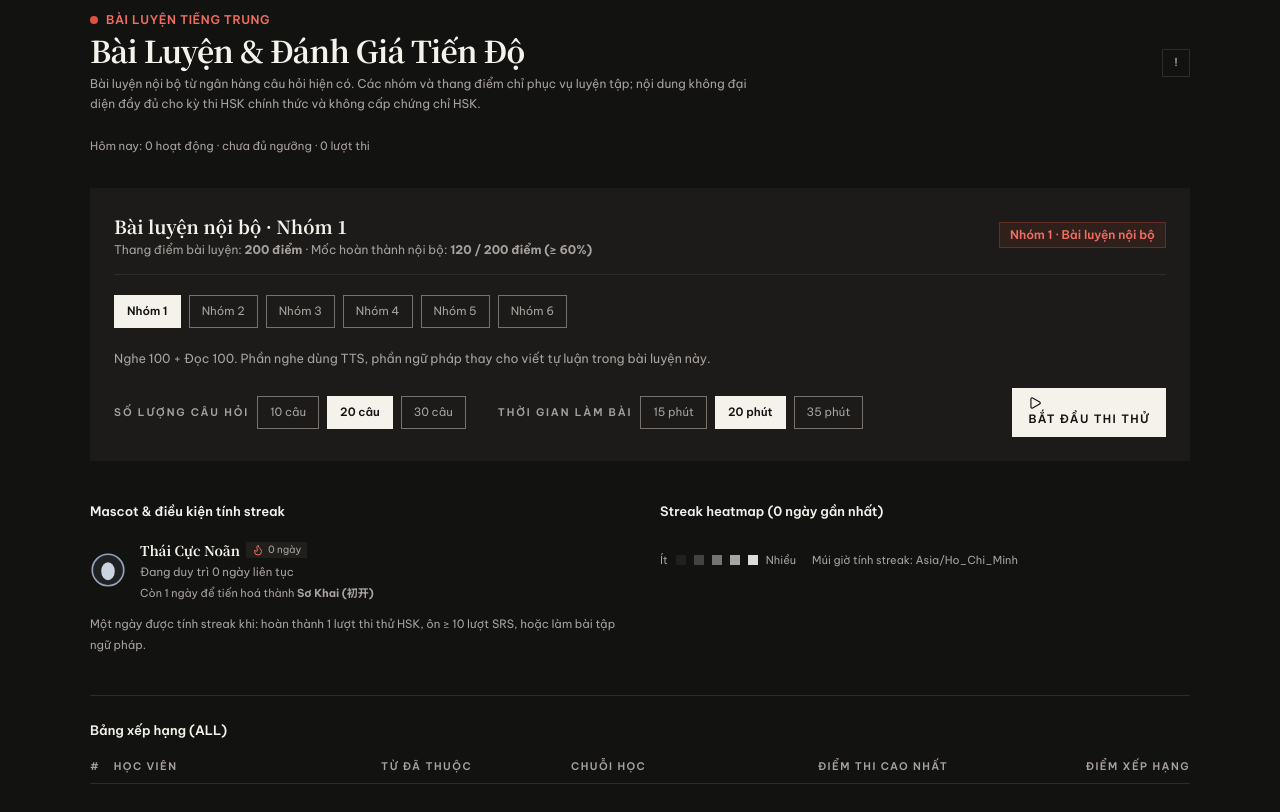
Test: HSK Mock Exam Engine (ExamView) › displays 「未过」 seal stamp and diagnostic review when score is below 120/200
The width and height of the screenshot is (1280, 812).
Click the button "Bắt đầu thi thử" at coordinates (1089, 413), box left=1012, top=388, right=1166, bottom=437
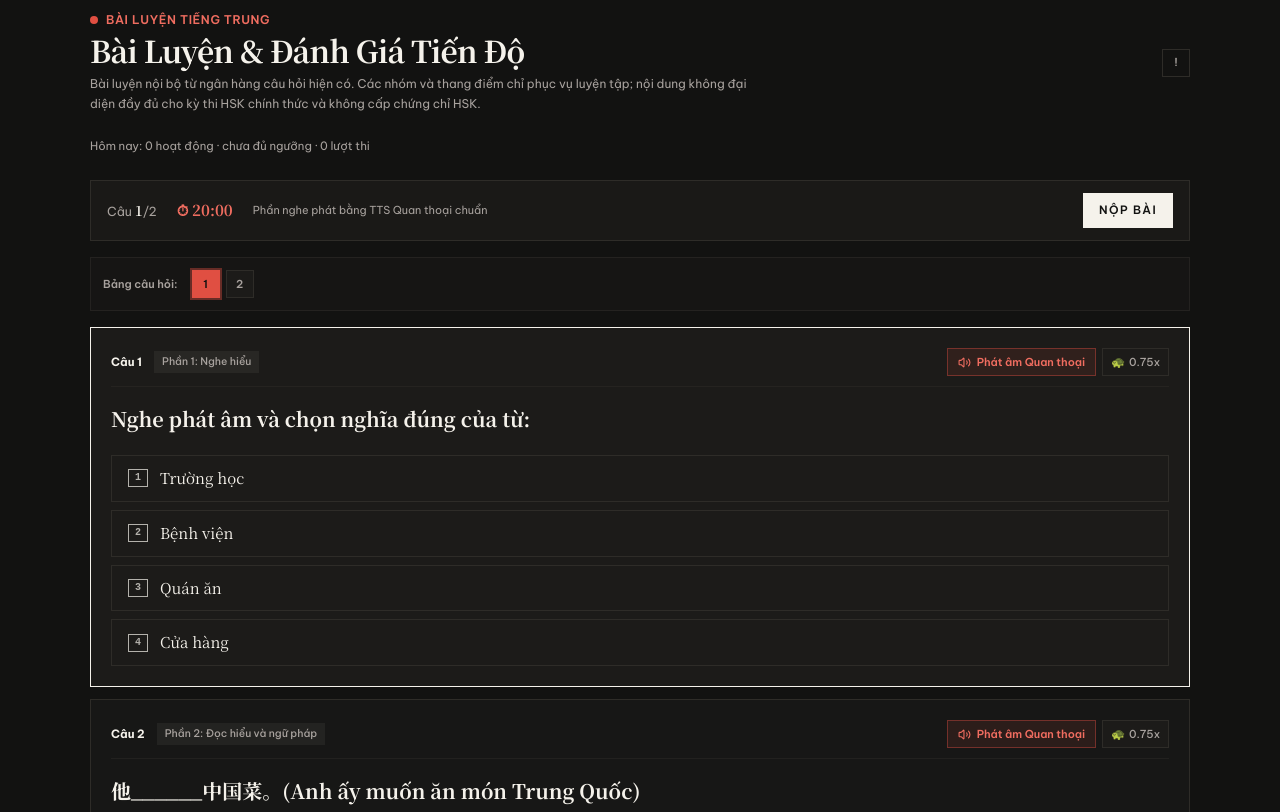
Check: the text "Phần 1: Nghe hiểu" is shown, box left=154, top=351, right=259, bottom=373
Click the button "Nộp bài" at coordinates (1128, 210), box left=1083, top=193, right=1173, bottom=228
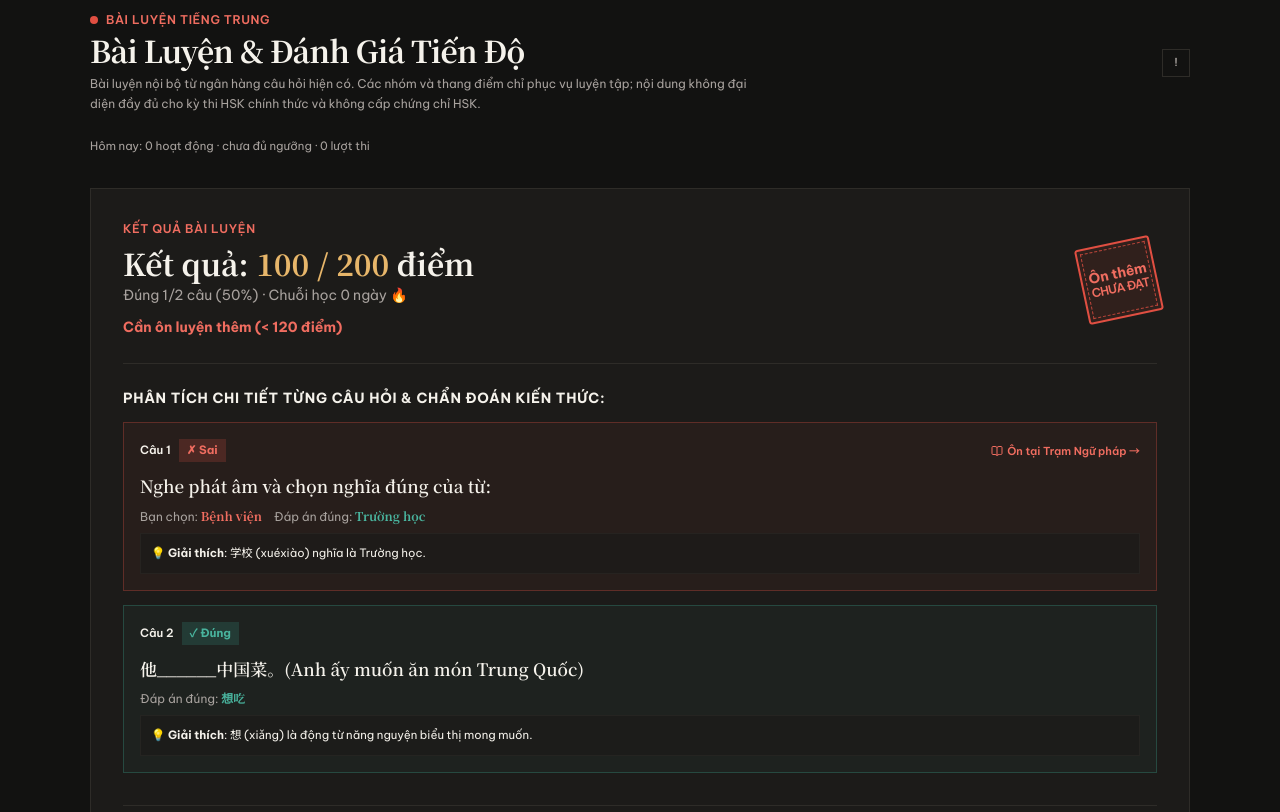
Check: the text "100 / 200" is shown, box left=256, top=241, right=389, bottom=285
Check: the text "Ôn thêm" is shown, box left=1087, top=260, right=1148, bottom=286
Check: the text "Cần ôn luyện thêm (< 120 điểm)" is shown, box left=123, top=318, right=342, bottom=336
